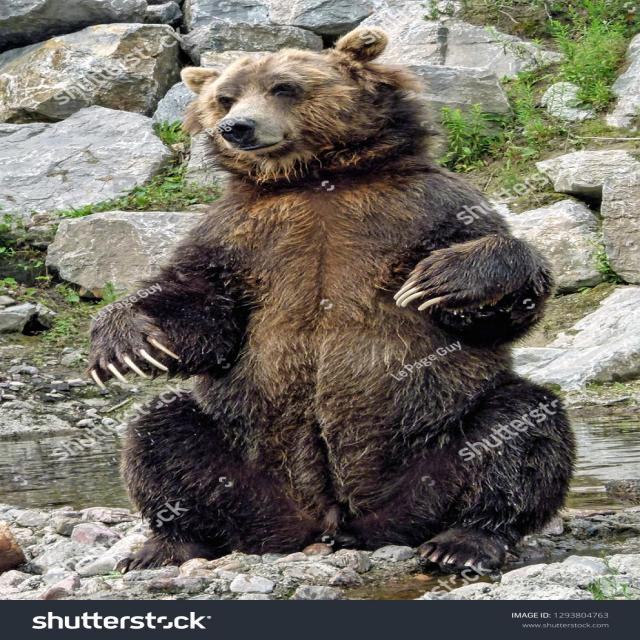Bear: (89, 27, 578, 581)
